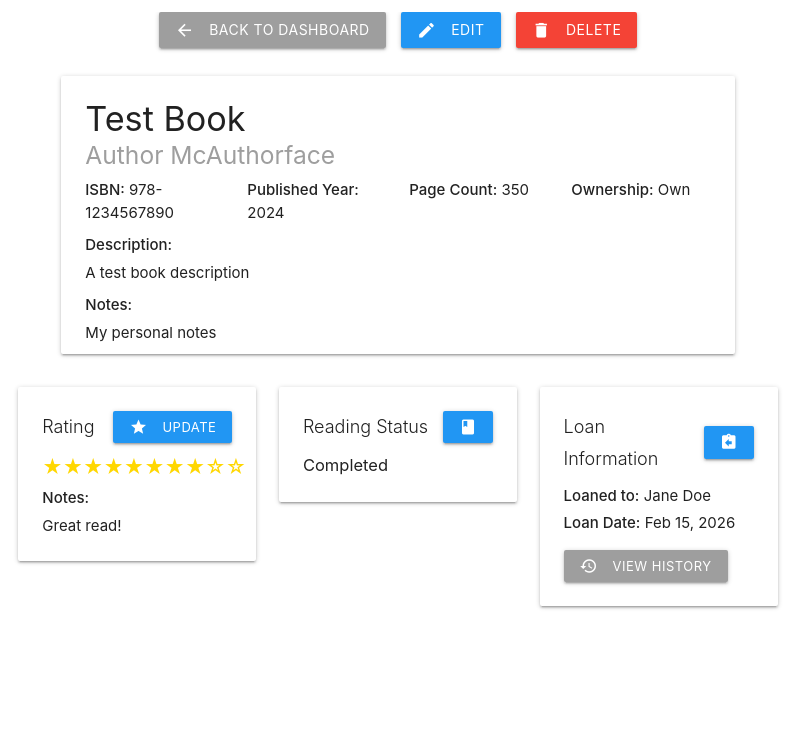
Test: BookDetails Page › Integration Tests › Edit Mode › should show success toast and exit edit mode after successful save
Expected: the heading "Test Book" is shown, [85,98,246,138]
Click the button "Edit": (451, 30) [401,12,500,48]
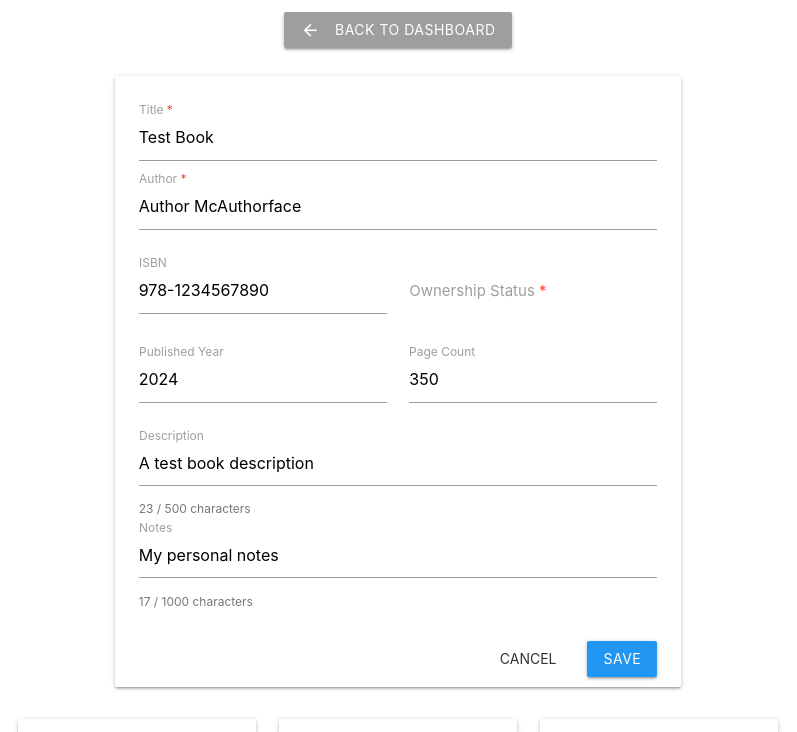
Click the button "Save": (622, 658) [588,640,657,676]
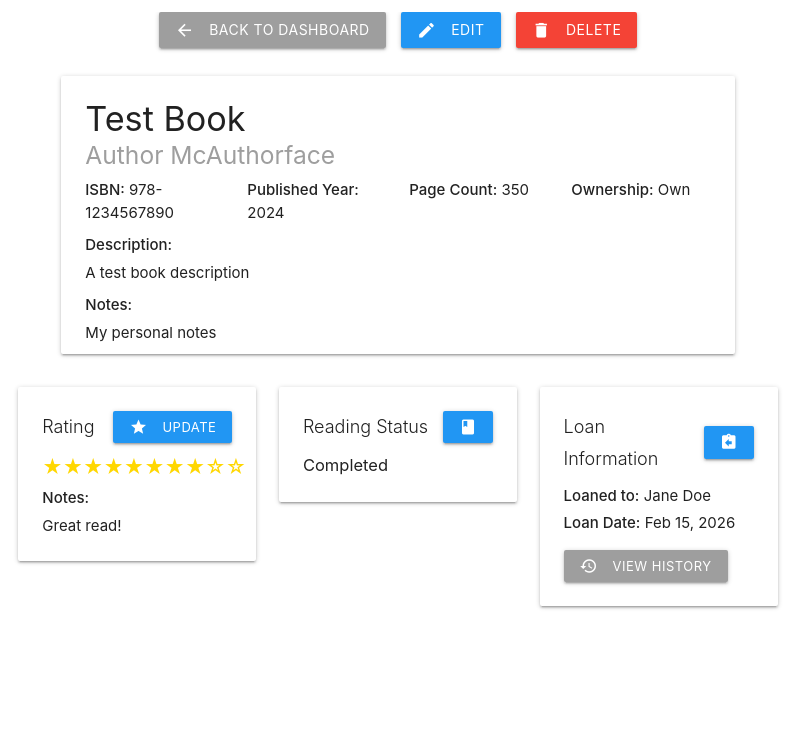
Result: the label labelled "Title *" is gone
